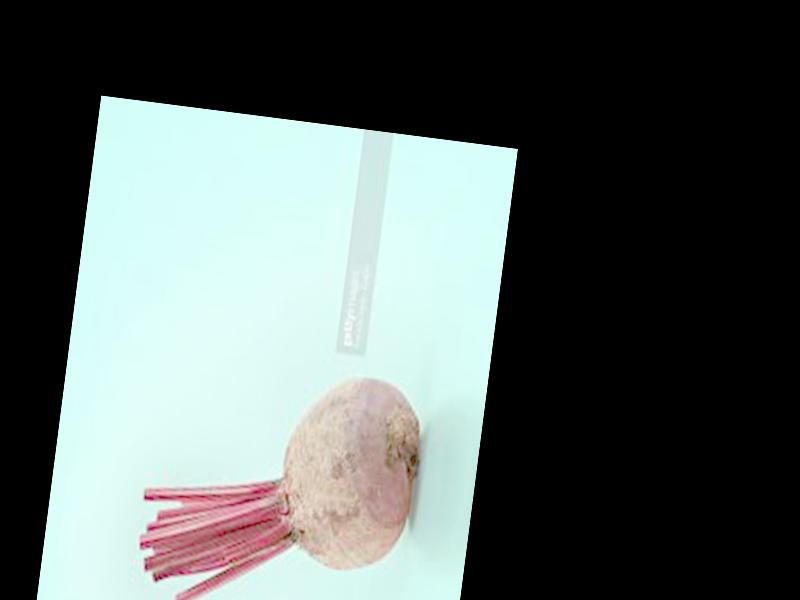Beet: (129, 351, 429, 600)
